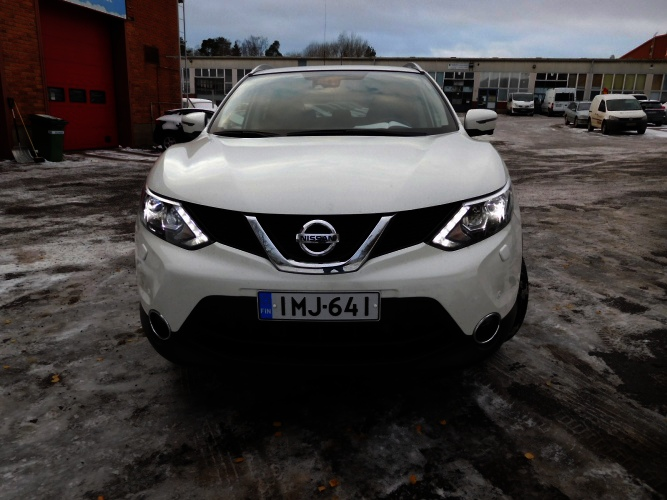license: (257, 291, 379, 325)
